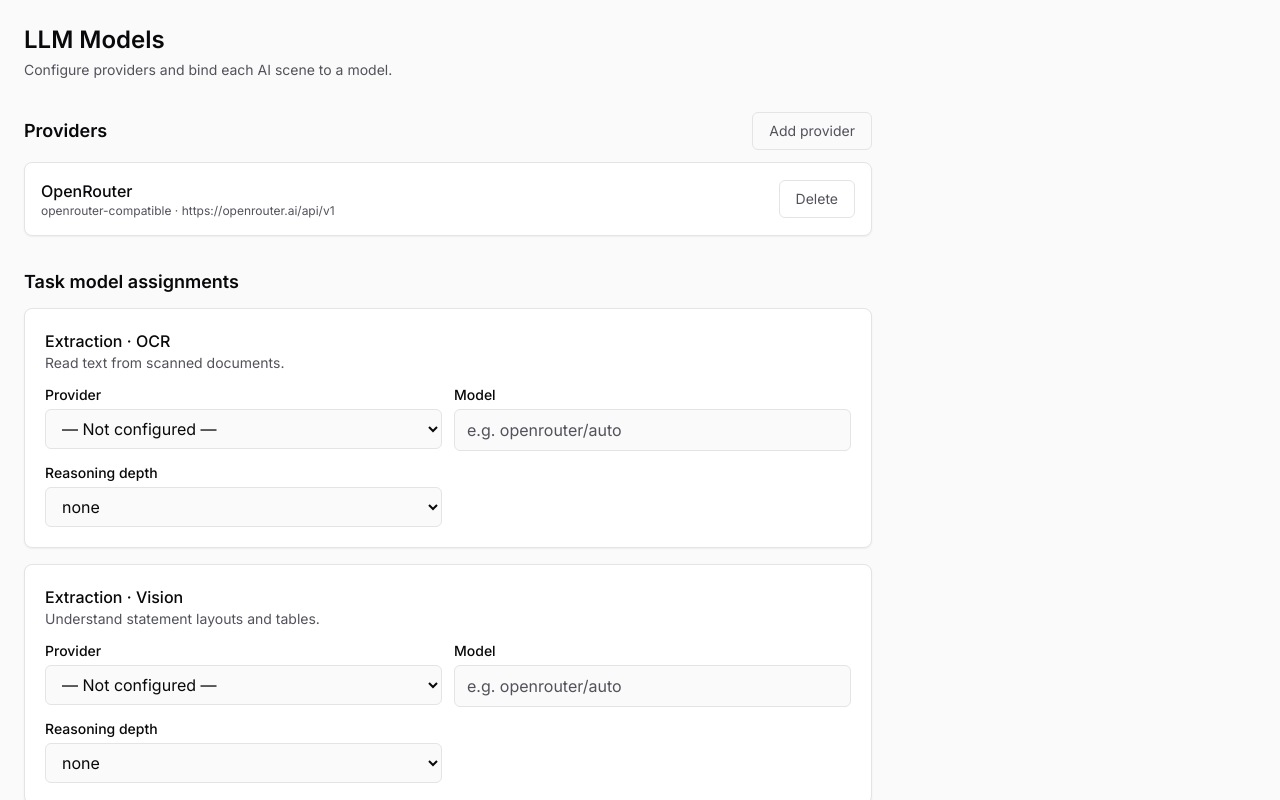
Test: LlmSettingsPanel (EPIC-023 PR4) › deletes a provider and reloads
The width and height of the screenshot is (1280, 800).
What coordinates should you click on to do the following:
click the button with aria-label "Delete provider OpenRouter"
I would click on:
 (817, 199)
Its box is left=779, top=180, right=855, bottom=218.
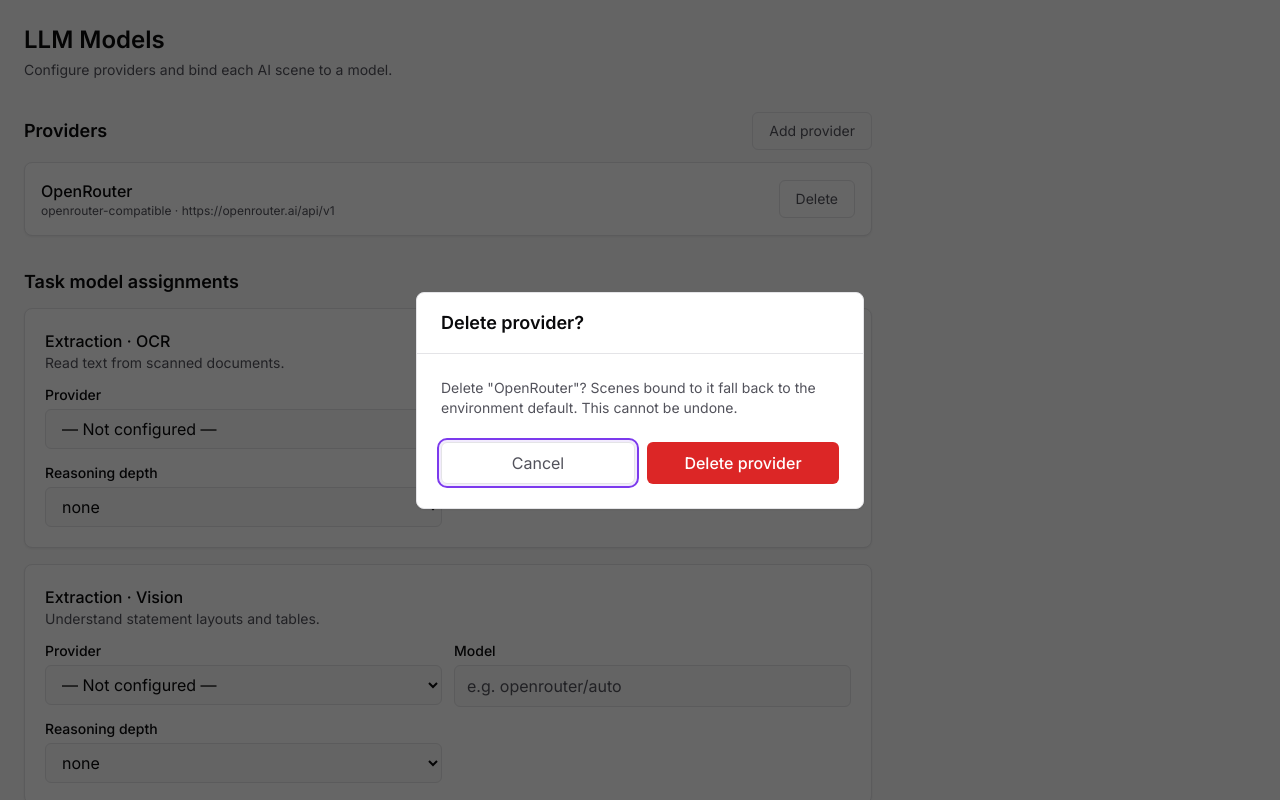
#1609: destructive delete now goes through a confirmation dialog.
What coordinates should you click on to do the following:
click the button "Delete provider"
I would click on:
 (743, 462)
Its box is left=647, top=442, right=839, bottom=484.
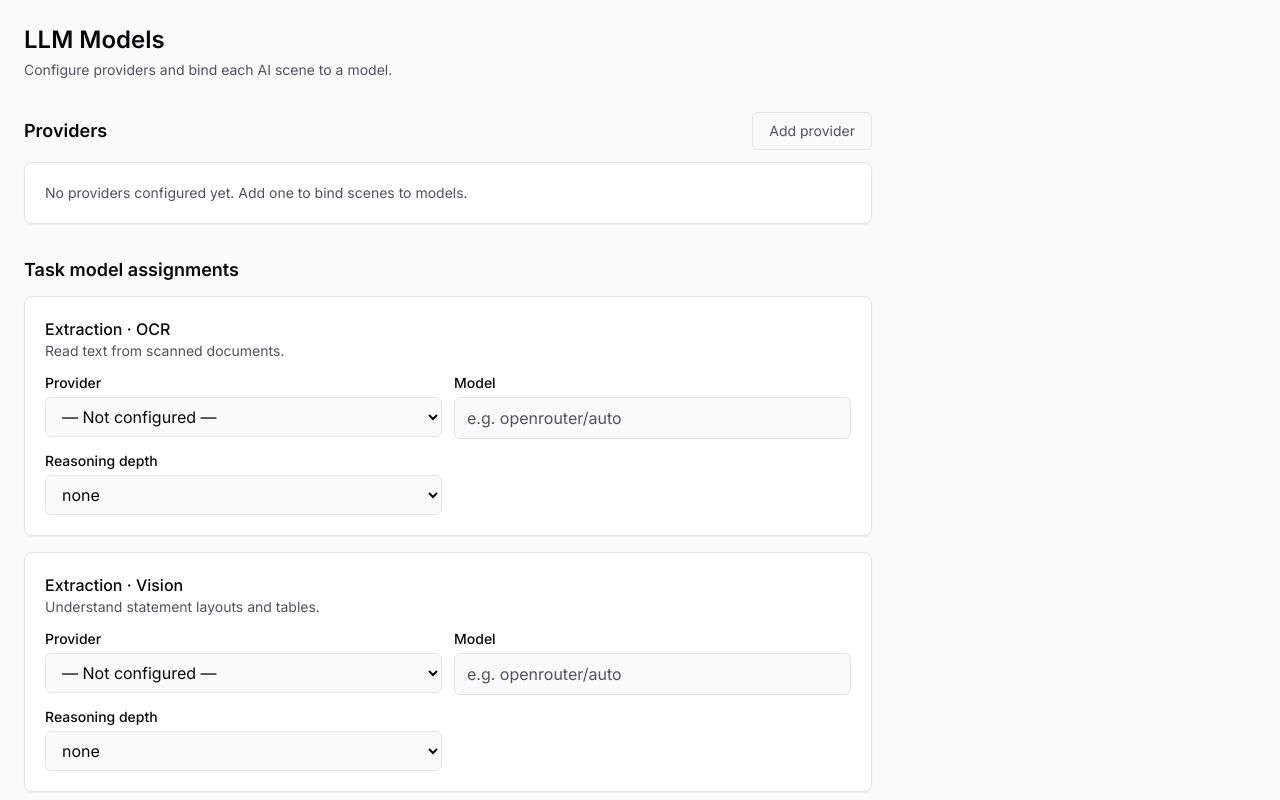
Check: the text "No providers configured yet" is shown, box left=45, top=184, right=468, bottom=201
